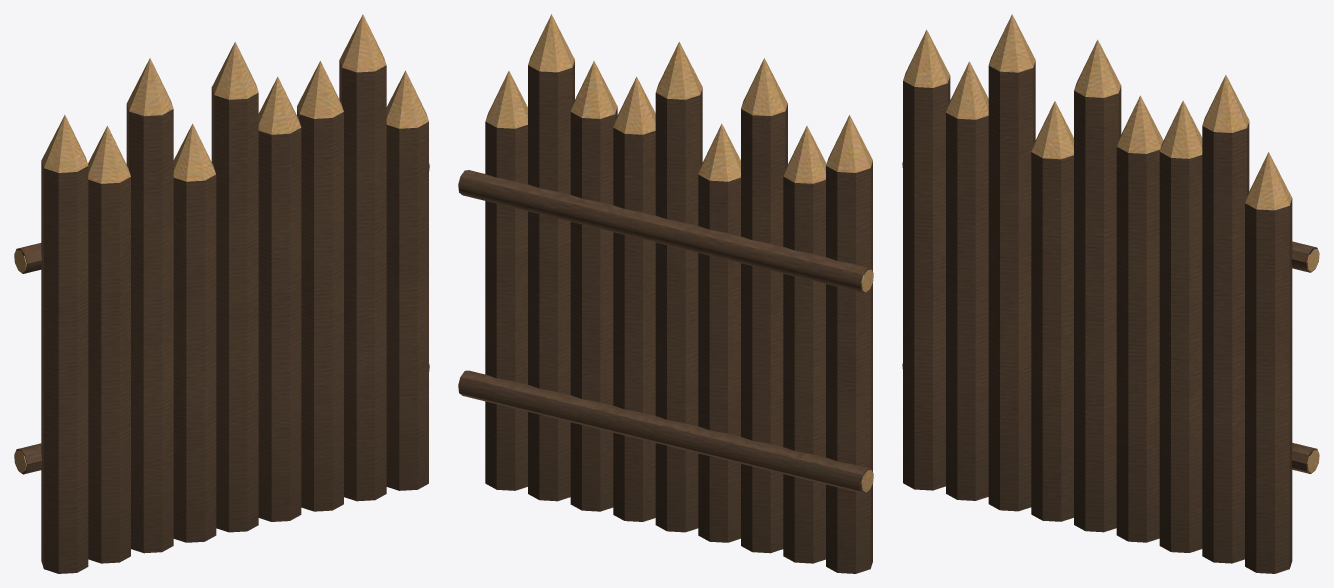
Rendered from log-wall.glb.
3 views of the same model, side by side, from view 1: azimuth 30°, elevation 25°; view 2: azimuth 150°, elevation 25°; view 3: azimuth 330°, elevation 25° (orthographic).
Visible parts, largest first — view 1: log_wall; view 2: log_wall; view 3: log_wall.
Boxes of the visible parts, x1,y1,x2,y2 form: log_wall: [14, 14, 429, 573]; log_wall: [458, 14, 873, 573]; log_wall: [902, 14, 1319, 573].
Bounding box in the file's own units: 2.11 × 2.42 × 0.2891.
Materials: 2 (2 with a texture image).
